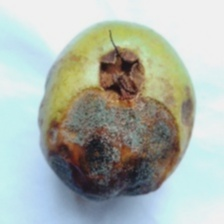guava: (0, 30, 183, 224)
